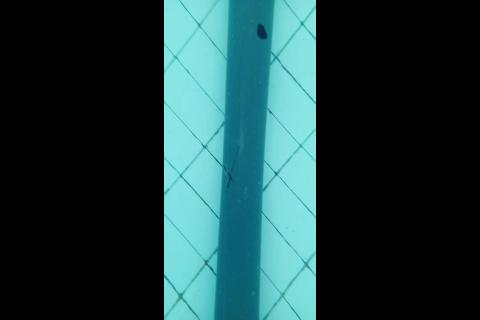kebocoran: (256, 22, 267, 40)
keretakan: (223, 151, 237, 189)
